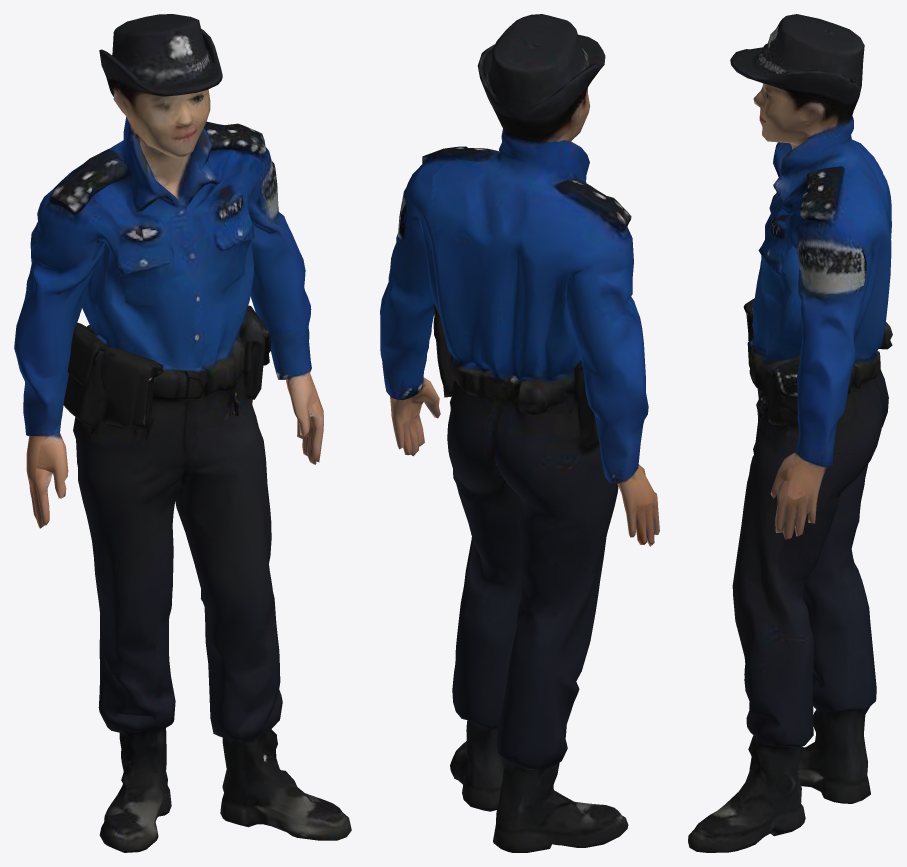
The model's file is polwan_china_idle.glb.
3 views of the same model, side by side, from view 1: azimuth 30°, elevation 25°; view 2: azimuth 150°, elevation 25°; view 3: azimuth 270°, elevation 25° (orthographic). The views are drawn at different scales.
Parts seen in each view (by area): view 1: tripo_node_e47f3cb7-5733-46bb-8eb3-97cf68cdc512; view 2: tripo_node_e47f3cb7-5733-46bb-8eb3-97cf68cdc512; view 3: tripo_node_e47f3cb7-5733-46bb-8eb3-97cf68cdc512.
Boxes of the visible parts, x1,y1,x2,y2 form: tripo_node_e47f3cb7-5733-46bb-8eb3-97cf68cdc512: (14,14,351,852); tripo_node_e47f3cb7-5733-46bb-8eb3-97cf68cdc512: (380,14,659,852); tripo_node_e47f3cb7-5733-46bb-8eb3-97cf68cdc512: (688,14,892,852).
Size of the model in its own units: 35.84 by 99.8 by 24.02.
1 material, 1 textured.
